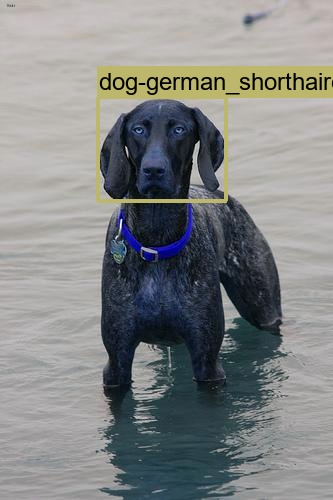dog-german_shorthaired: (99, 98, 226, 199)
